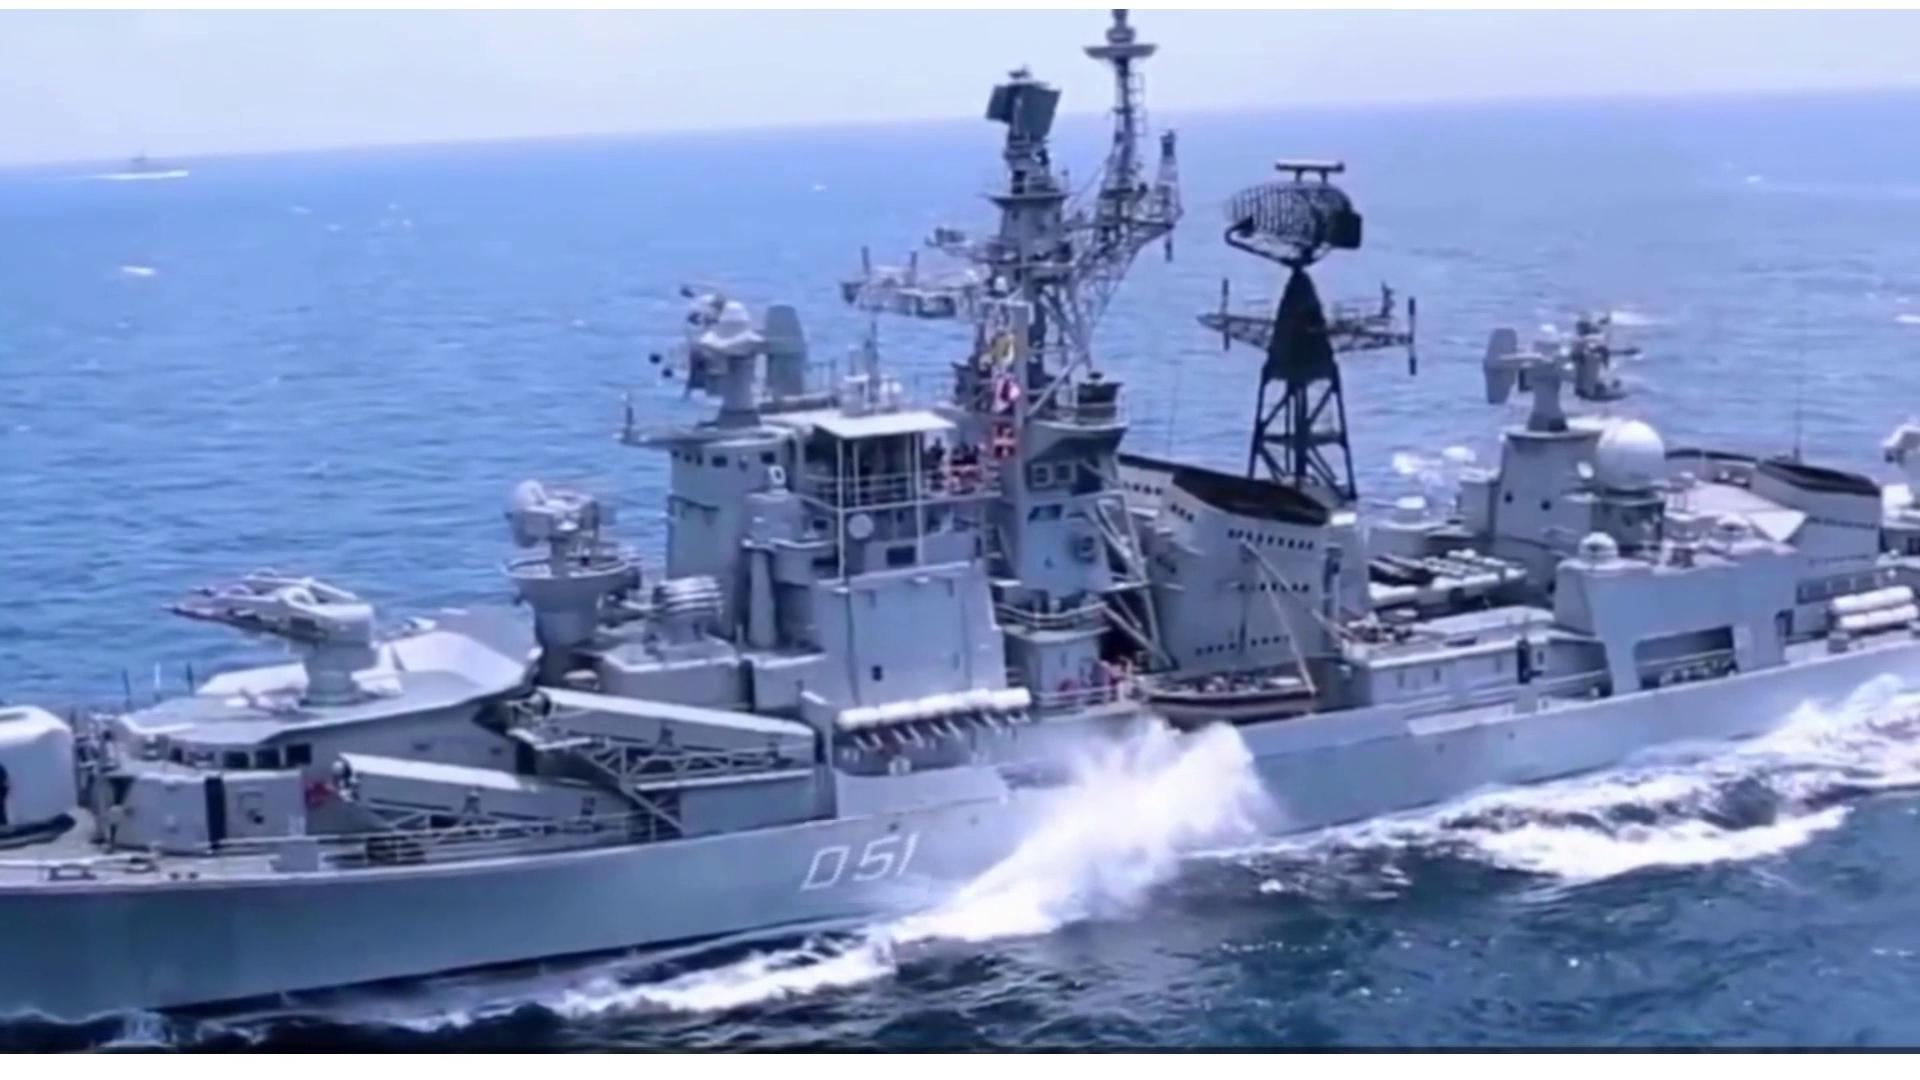OCR: (792, 820, 944, 906)
